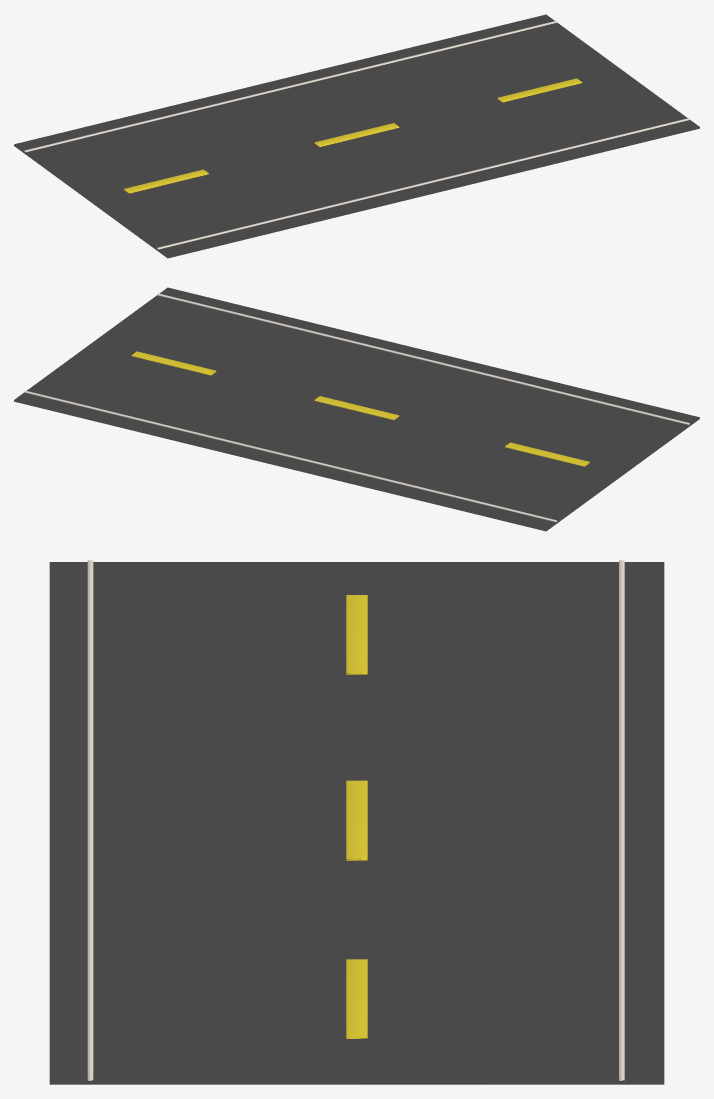
The model's file is road2.fbx.
3 renders of one model, top to bottom at view 1: azimuth 30°, elevation 25°; view 2: azimuth 150°, elevation 25°; view 3: azimuth 270°, elevation 25°, orthographic. The views are drawn at different scales.
Visible parts, largest first — view 1: Cube, Cube.005, Cube.004, Cube.003, Cube.002, Cube.001; view 2: Cube, Cube.005, Cube.004, Cube.003, Cube.002, Cube.001; view 3: Cube, Cube.004, Cube.005, Cube.001, Cube.003, Cube.002.
Boxes of the visible parts, <box> form: Cube: <box>14,14,699,258</box>; Cube.005: <box>24,21,557,152</box>; Cube.004: <box>157,118,689,249</box>; Cube.003: <box>124,169,208,193</box>; Cube.002: <box>497,78,582,102</box>; Cube.001: <box>314,123,399,146</box>; Cube: <box>14,287,699,531</box>; Cube.005: <box>24,391,557,522</box>; Cube.004: <box>157,293,689,425</box>; Cube.003: <box>505,442,589,466</box>; Cube.002: <box>131,351,216,375</box>; Cube.001: <box>314,396,399,419</box>; Cube: <box>49,562,664,1084</box>; Cube.004: <box>87,560,93,1080</box>; Cube.005: <box>619,560,624,1080</box>; Cube.001: <box>346,780,367,860</box>; Cube.003: <box>346,595,367,674</box>; Cube.002: <box>346,959,367,1038</box>.
Bounding box in the file's own units: 400 × 1.96 × 200.
